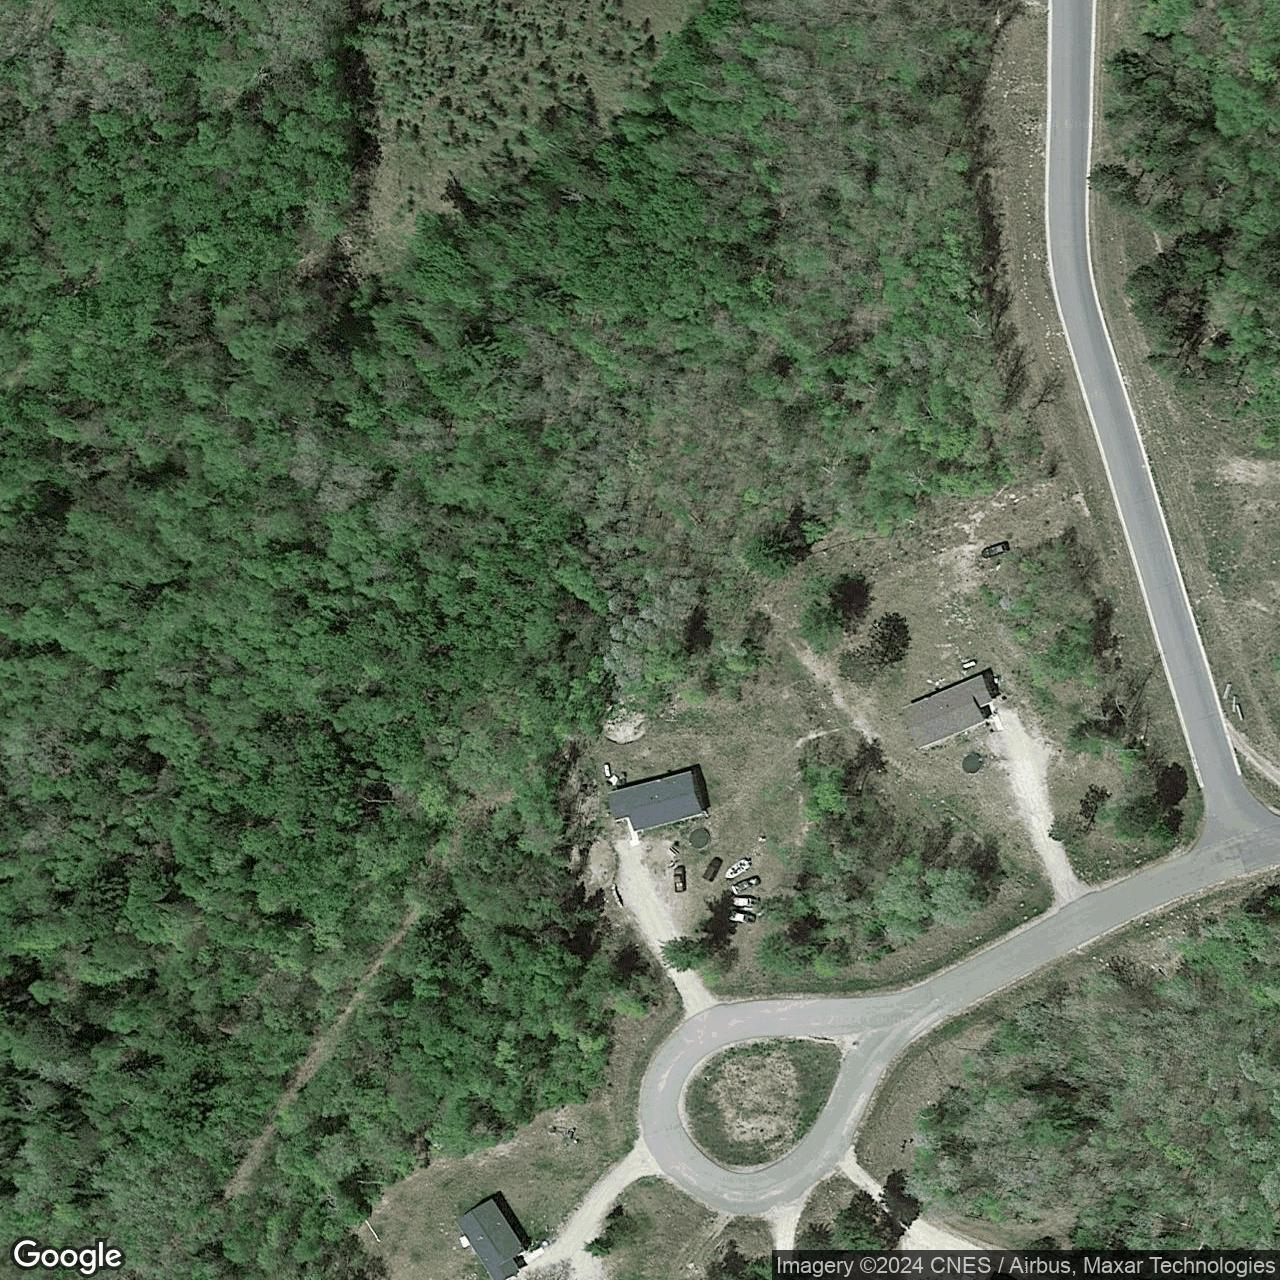House: (899, 674, 994, 751), (606, 769, 708, 833), (455, 1198, 525, 1280)
Propane: (960, 656, 980, 672), (602, 762, 612, 777)
